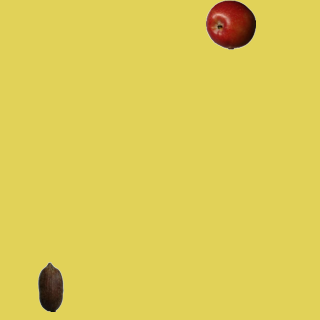Apple Braeburn: (205, 0, 255, 49)
Nut Pecan: (25, 261, 75, 311)
